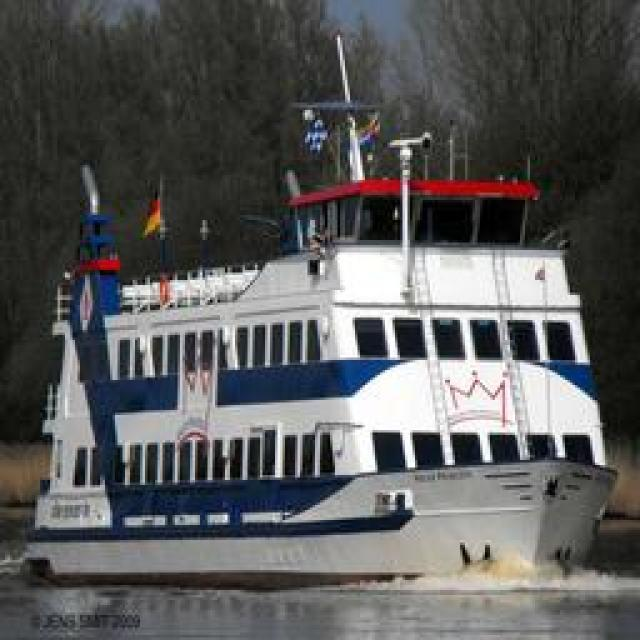CIV_Ship: (32, 111, 616, 596)
